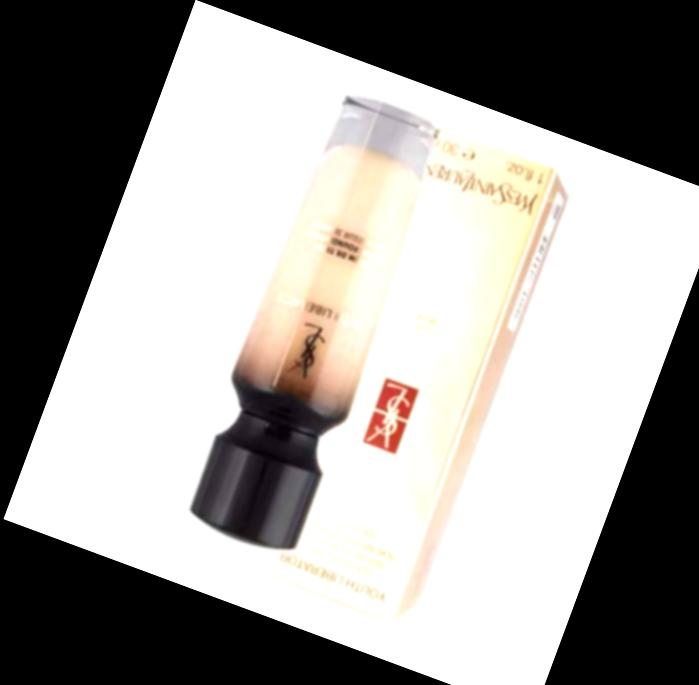cosmetic: (179, 85, 455, 554)
